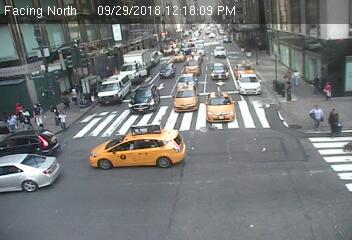car: (90, 123, 187, 168), (117, 51, 153, 82), (205, 89, 236, 124), (128, 85, 162, 114), (98, 73, 132, 102), (174, 83, 201, 110), (239, 72, 262, 95), (207, 60, 229, 83), (174, 72, 198, 86), (143, 48, 161, 66), (235, 62, 255, 78), (184, 56, 200, 75), (159, 61, 175, 79), (213, 45, 226, 60), (173, 51, 186, 62), (163, 43, 174, 54), (196, 45, 205, 56), (223, 34, 232, 44), (209, 33, 218, 40)
